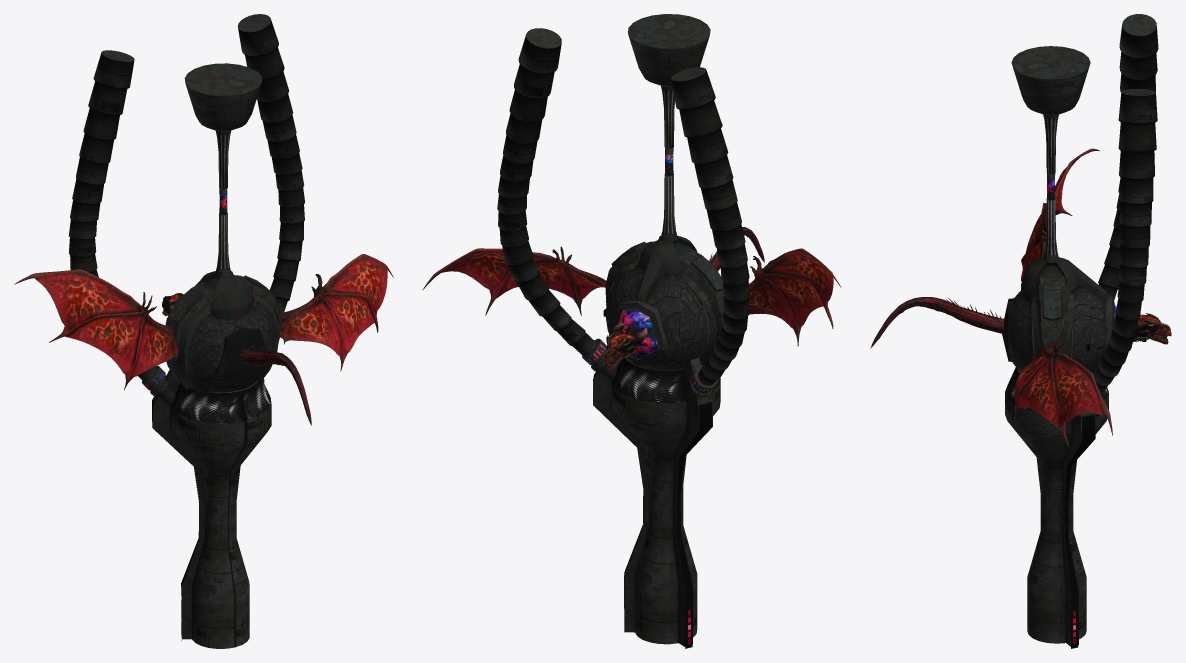
Rendered from kamerian_heart.glb.
3 views of the same model, side by side, from view 1: azimuth 30°, elevation 25°; view 2: azimuth 150°, elevation 25°; view 3: azimuth 270°, elevation 25° (orthographic). The views are drawn at different scales.
Visible parts, largest first — view 1: pylon, R_pipe, pipeline, L_pipe, L_wing02, sphere_back, R_wing02, R_wing01, L_door, backpanel, L_wing01, R_door (+2 smaller); view 2: pylon, R_pipe, L_pipe, pipeline, sphere_front, L_wing02, R_wing02, L_door, crystal_door, lightstrips, L_wing01, turret01-arms (+2 smaller); view 3: pylon, R_pipe, pipeline, R_wing02, L_pipe, R_door, sphere_front, lightstrips, sphere_back, tail01, L_wing02, R_wing01 (+4 smaller).
Part boxes in pixels (x1,y1,x2,y2): pylon: (150,369,271,648); R_pipe: (237,14,304,312); pipeline: (184,63,261,319); L_pipe: (68,50,156,381); L_wing02: (14,269,147,389); sphere_back: (185,301,278,395); R_wing02: (322,254,393,370); R_wing01: (279,274,346,370); L_door: (165,282,213,389); backpanel: (214,327,267,388); L_wing01: (124,292,178,389); R_door: (235,275,281,347); pylon: (591,349,720,646); R_pipe: (497,28,596,356); L_pipe: (671,67,749,385); pipeline: (628,14,710,302); sphere_front: (605,265,707,370); L_wing02: (762,248,841,345); R_wing02: (422,248,582,315); L_door: (679,248,723,362); crystal_door: (609,300,669,365); lightstrips: (593,379,711,648); L_wing01: (723,256,801,346); turret01-arms: (604,323,647,365); pylon: (1005,367,1108,646); R_pipe: (1093,88,1157,393); pipeline: (1011,46,1108,301); R_wing02: (1014,352,1112,447); L_pipe: (1098,14,1158,300); R_door: (1031,276,1073,358); sphere_front: (1071,285,1106,373); lightstrips: (1064,417,1094,648); sphere_back: (1010,291,1033,371); tail01: (936,298,1004,333); L_wing02: (1021,148,1099,267); R_wing01: (1015,336,1067,407).
Size of the model in its own units: 24.47 by 34.66 by 16.28.
8 materials, 6 textured.
